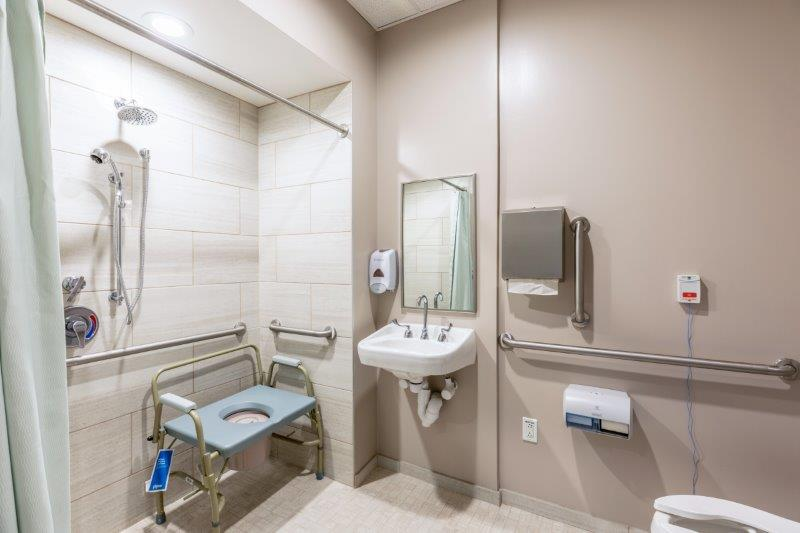chair: (144, 339, 339, 533)
curtain: (1, 1, 68, 532)
dispenser: (496, 204, 567, 301), (565, 385, 634, 436), (370, 247, 395, 295)
faucet: (392, 291, 452, 342)
restroom_assist_bar: (499, 329, 800, 384), (64, 322, 253, 369), (567, 213, 594, 328), (266, 313, 341, 341)
sink: (357, 315, 468, 419)
toilet: (654, 487, 800, 531)
toilet_handle: (65, 313, 97, 346)
